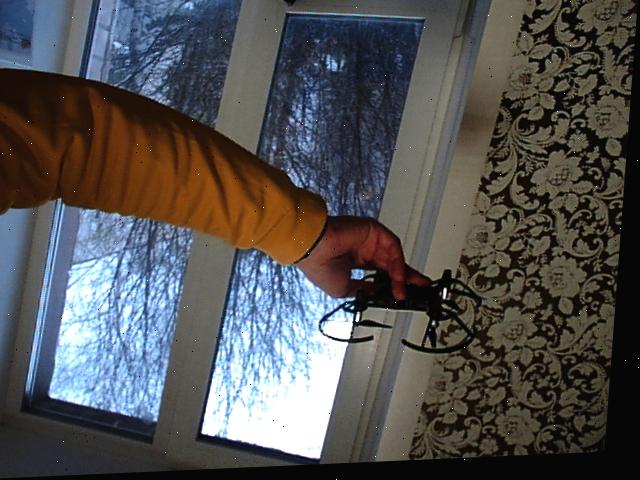drone: (322, 268, 497, 368)
